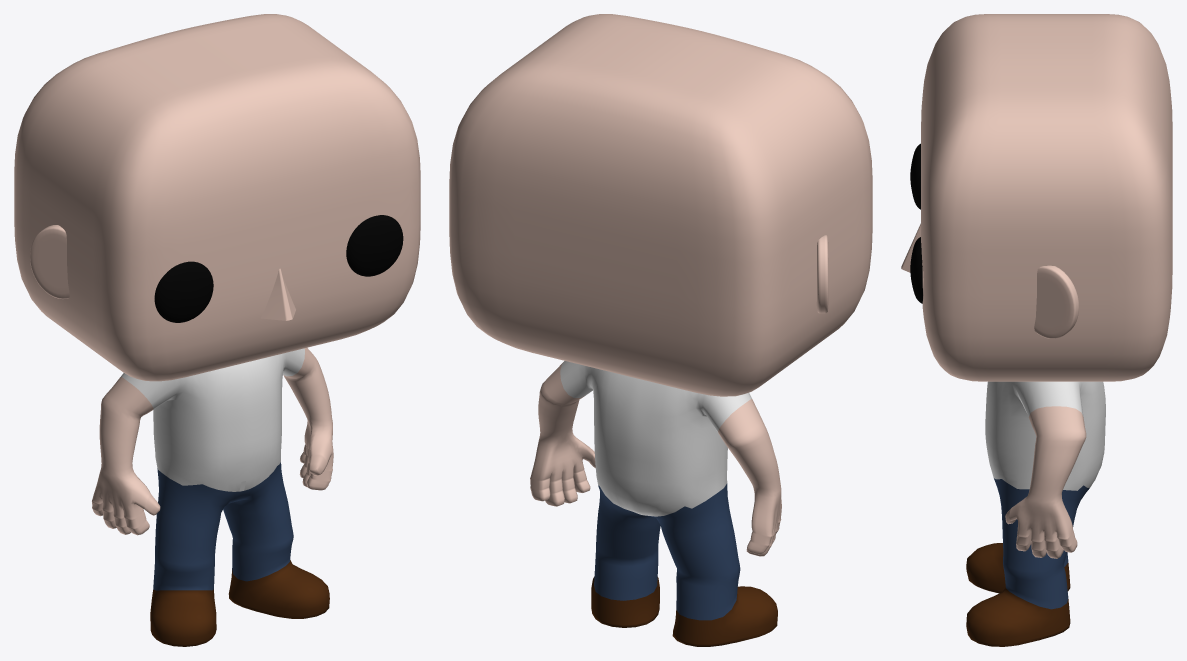
File: doll.fbx
3 renders of one model, left to right at view 1: azimuth 30°, elevation 25°; view 2: azimuth 150°, elevation 25°; view 3: azimuth 270°, elevation 25°, orthographic. The views are drawn at different scales.
Parts seen in each view (by area): view 1: BASE FUNKO ORLANDO 3D; view 2: BASE FUNKO ORLANDO 3D; view 3: BASE FUNKO ORLANDO 3D.
Boxes of the visible parts, x1,y1,x2,y2 form: BASE FUNKO ORLANDO 3D: [14, 14, 420, 646]; BASE FUNKO ORLANDO 3D: [449, 14, 872, 646]; BASE FUNKO ORLANDO 3D: [901, 14, 1172, 646].
Bounding box in the file's own units: 39.82 × 26.7 × 60.
